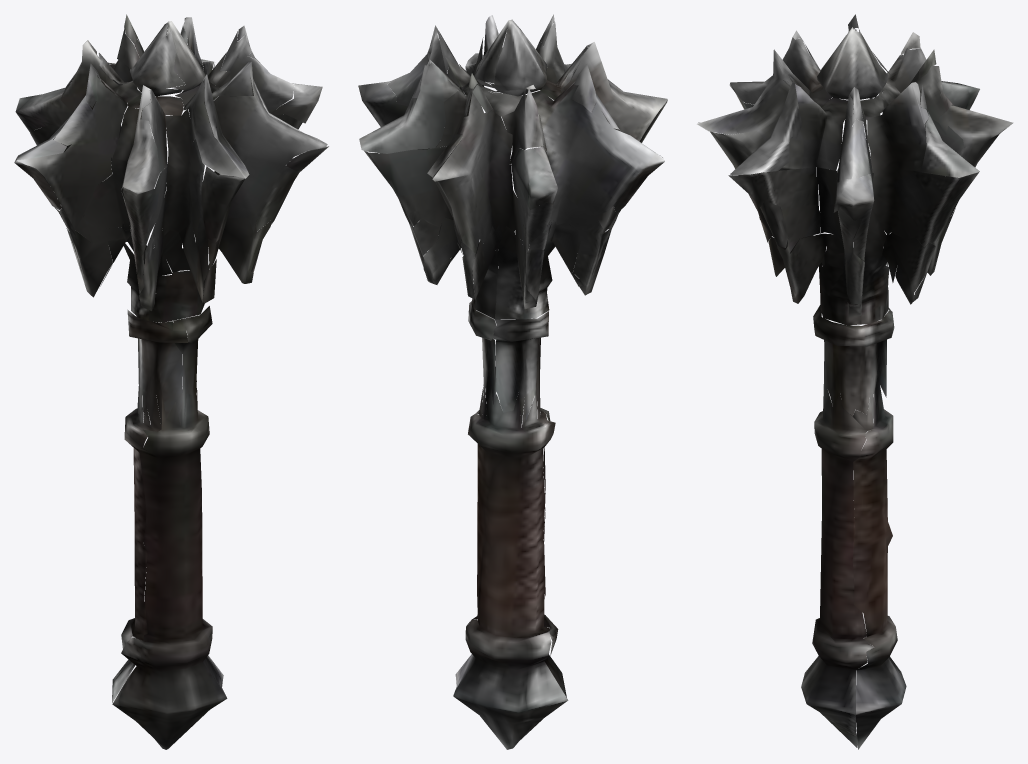
Rendered from flanged_mace.glb.
3 views of the same model, side by side, from view 1: azimuth 30°, elevation 25°; view 2: azimuth 150°, elevation 25°; view 3: azimuth 270°, elevation 25° (orthographic).
Visible parts, largest first — view 1: flanged_mace; view 2: flanged_mace; view 3: flanged_mace.
Boxes of the visible parts, x1,y1,x2,y2 form: flanged_mace: (14, 14, 328, 749); flanged_mace: (358, 14, 667, 749); flanged_mace: (697, 14, 1013, 749).
Bounding box in the file's own units: 0.3301 × 0.7483 × 0.2985.
1 material, 1 textured.
